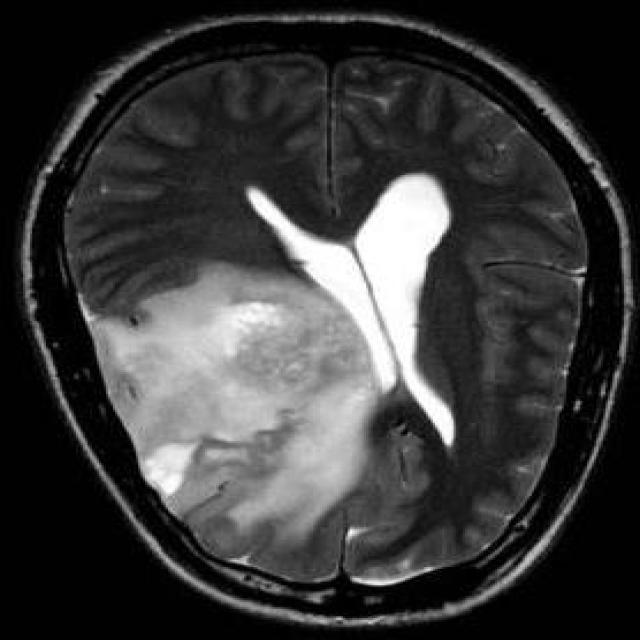Tumor-Cell: (88, 297, 375, 542)
